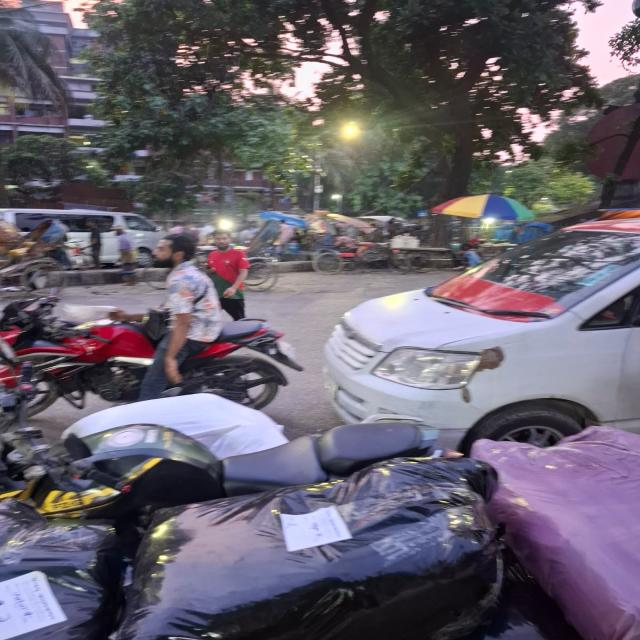person: (210, 231, 260, 322)
